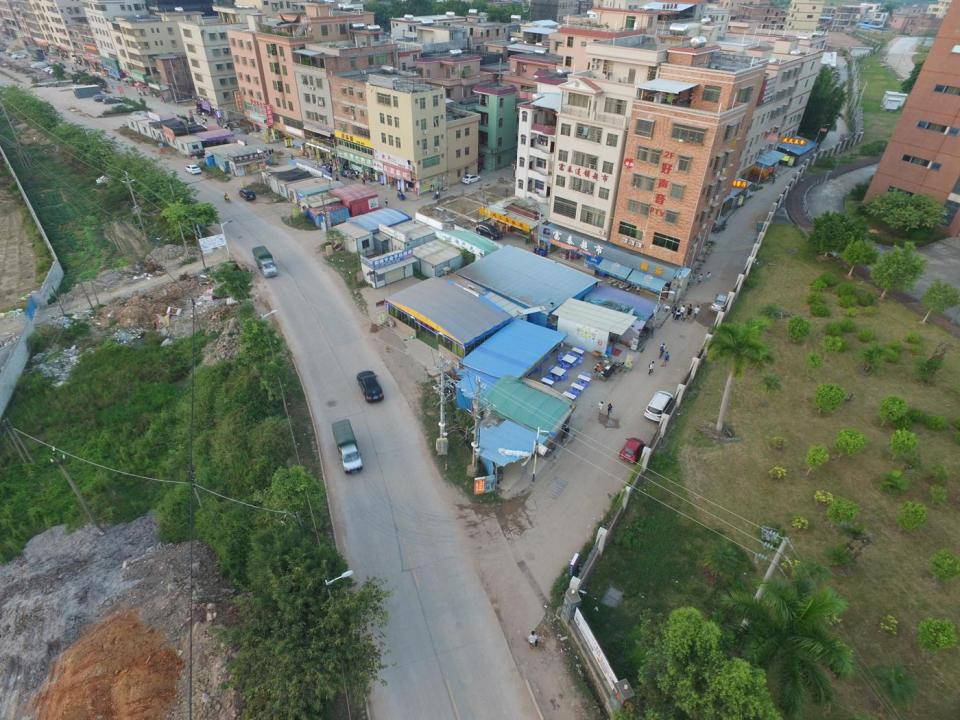car: (644, 390, 674, 421), (357, 372, 384, 402), (620, 436, 644, 466), (476, 224, 503, 240), (709, 293, 730, 313), (238, 187, 256, 201), (462, 174, 482, 184), (184, 165, 202, 174), (92, 94, 110, 102), (30, 61, 47, 69), (103, 98, 120, 105), (41, 66, 59, 72), (10, 54, 27, 60), (11, 51, 27, 57)
truck: (330, 420, 362, 476), (252, 246, 277, 277)
